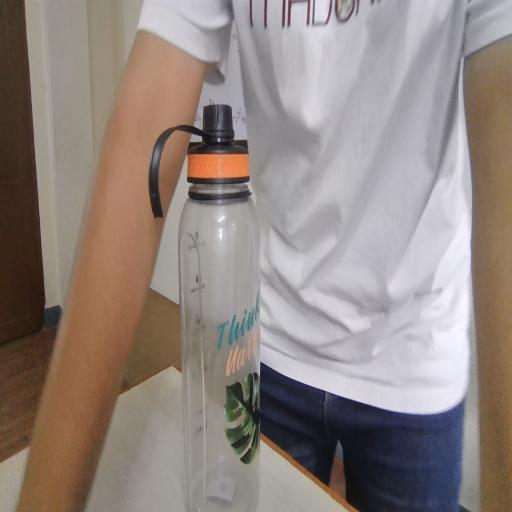Bottle: (172, 94, 281, 512)
